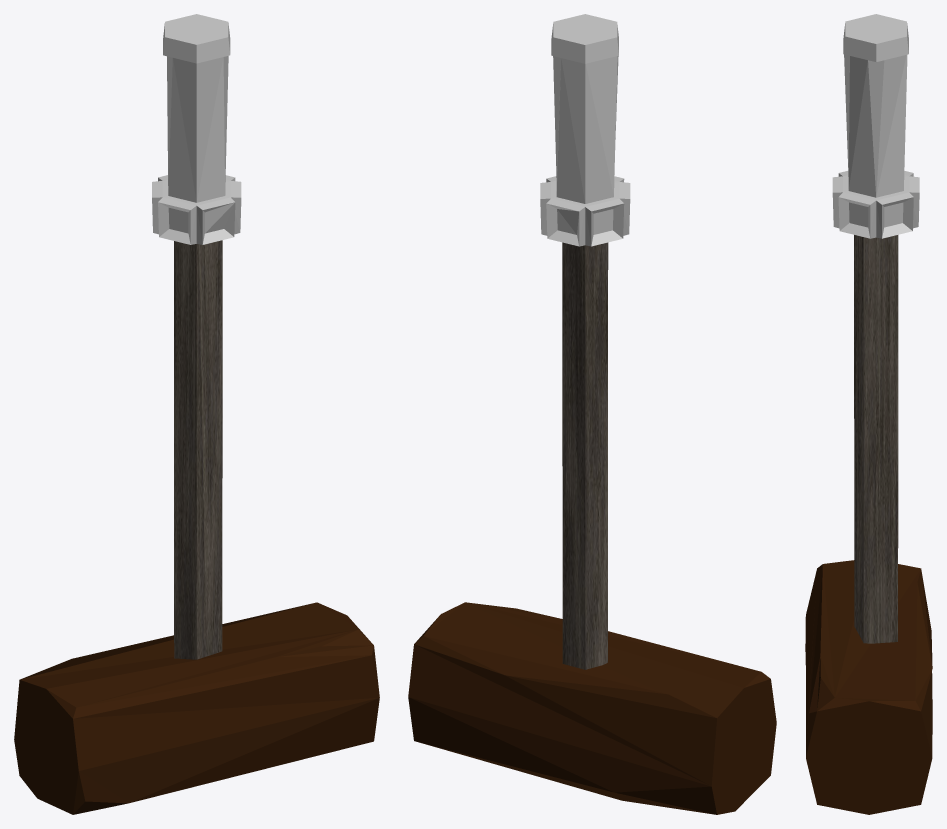
File: mallet228_wtf.obj
3 views of the same model, side by side, from view 1: azimuth 30°, elevation 25°; view 2: azimuth 150°, elevation 25°; view 3: azimuth 270°, elevation 25° (orthographic). The views are drawn at different scales.
Visible parts, largest first — view 1: group2, group3, group4; view 2: group2, group3, group4; view 3: group2, group3, group4.
Boxes of the visible parts, <box> form: group2: <box>14,602,379,814</box>; group3: <box>174,240,222,659</box>; group4: <box>152,14,241,244</box>; group2: <box>408,602,776,814</box>; group3: <box>562,242,608,669</box>; group4: <box>540,14,630,246</box>; group2: <box>805,560,932,814</box>; group3: <box>854,235,898,643</box>; group4: <box>832,14,919,238</box>.
Size of the model in its own units: 282 by 660 by 106.
